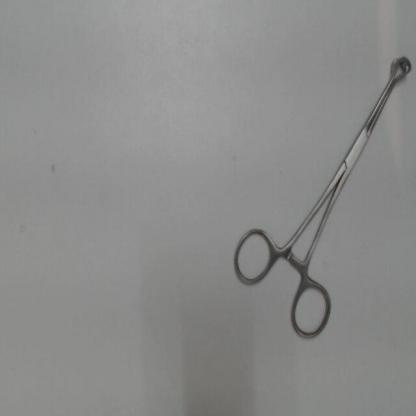Babcock Tissue Forceps: (231, 52, 414, 343)
